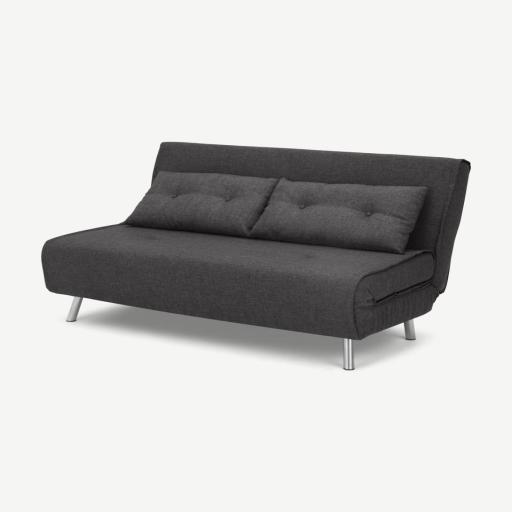back_cushion: (125, 143, 469, 292)
legs: (66, 297, 82, 321), (343, 339, 354, 370), (404, 319, 415, 339)
one-seater: (42, 142, 470, 370)
seat_cushion: (42, 226, 436, 339)
